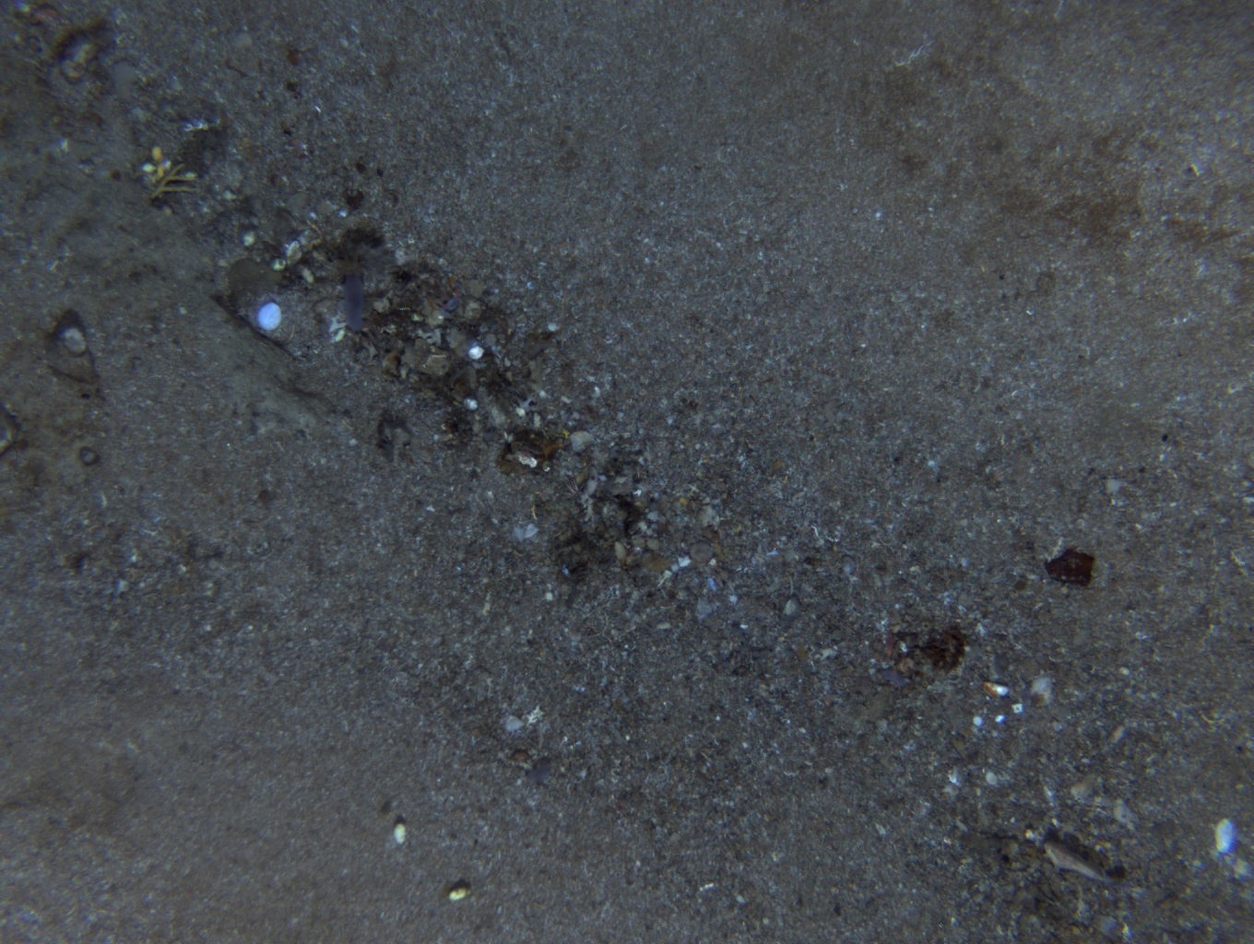Brachionichthyidae: (1042, 838, 1123, 888)
